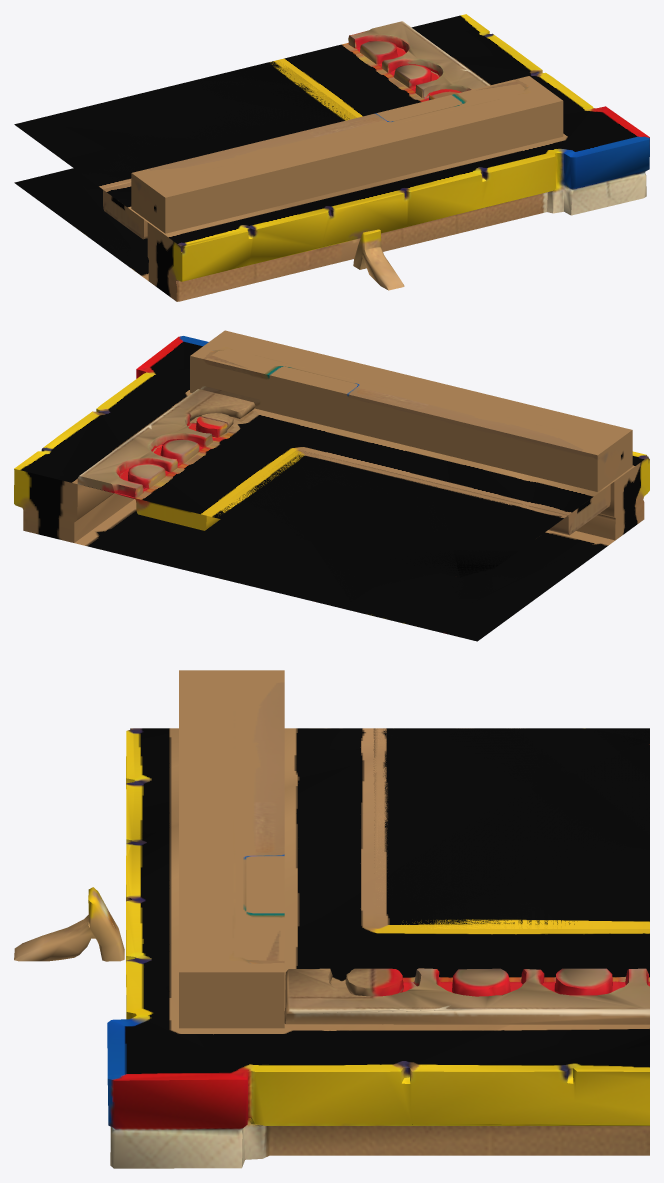
The model's file is 10-roof-front-right.fbx.
3 views of the same model, one above another, from view 1: azimuth 30°, elevation 25°; view 2: azimuth 150°, elevation 25°; view 3: azimuth 270°, elevation 25° (orthographic). The views are drawn at different scales.
Visible parts, largest first — view 1: roof-front-right; view 2: roof-front-right; view 3: roof-front-right.
Part boxes in pixels (x1,y1,x2,y2): roof-front-right: [14, 14, 649, 301]; roof-front-right: [14, 330, 649, 641]; roof-front-right: [14, 670, 649, 1168].
Size of the model in its own units: 5131 by 1012 by 3916.
Materials: 1 (1 with a texture image).
